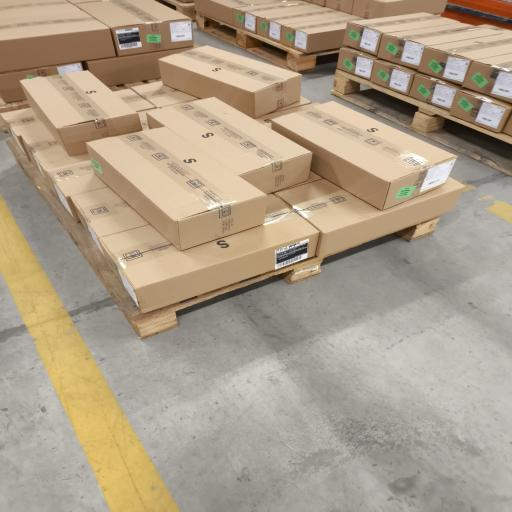pallet: (7, 139, 323, 338), (7, 139, 322, 338), (331, 70, 511, 175), (196, 13, 339, 72), (109, 79, 160, 91), (0, 100, 29, 113)
